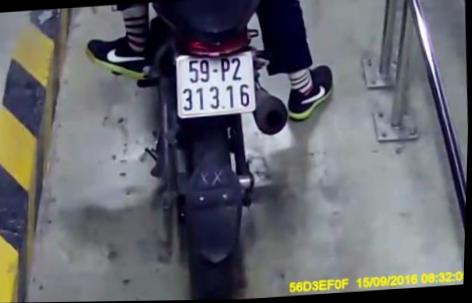LP: (173, 51, 258, 119)
